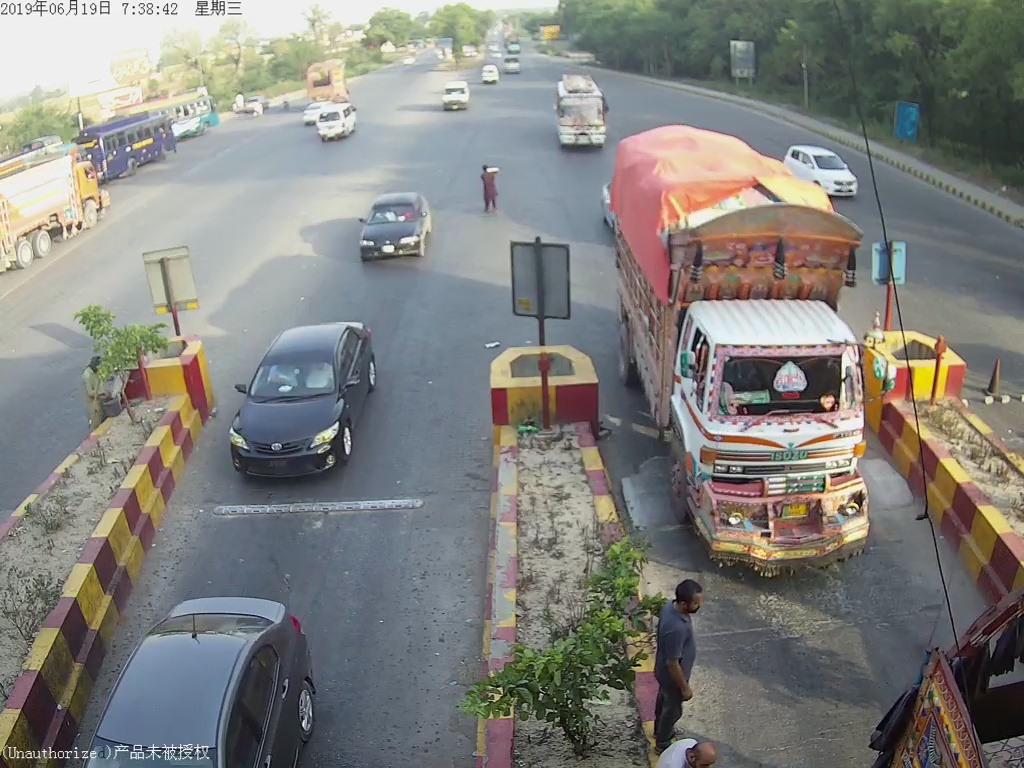Cat-1: (225, 319, 379, 470), (357, 184, 433, 263), (791, 140, 866, 198)
Cat-3: (548, 68, 619, 153)
Cat-4: (615, 133, 882, 560)
